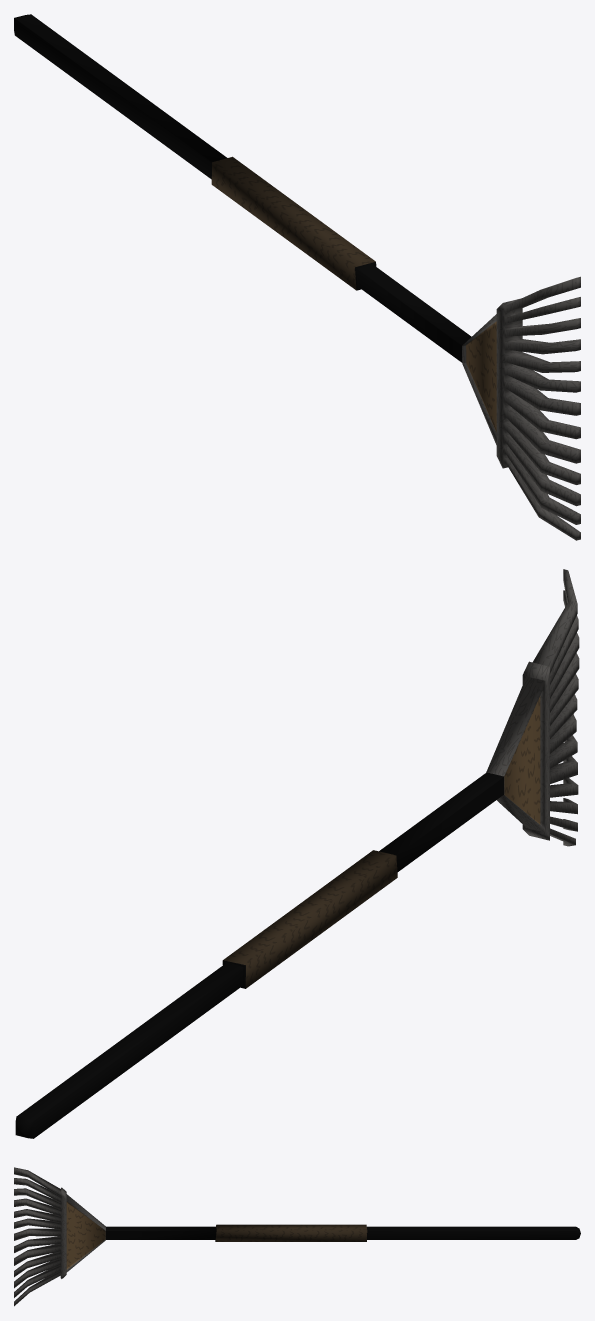
Rendered from item-rake.glb.
The picture shows the model from 3 angles, top to bottom: view 1: azimuth 30°, elevation 25°; view 2: azimuth 150°, elevation 25°; view 3: azimuth 270°, elevation 25°; orthographic projection. The views are drawn at different scales.
Size of the model in its own units: 0.4074 by 3.01 by 11.21.
Materials: 4 (3 with a texture image).
